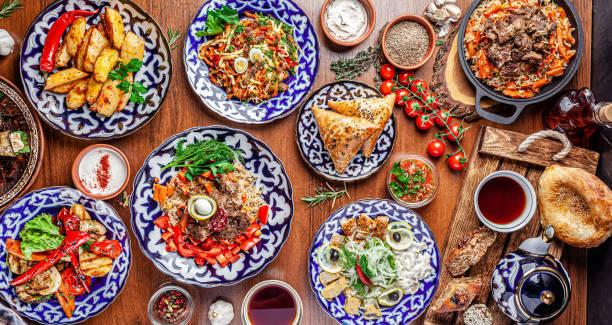Braised Crucian Carp: (128, 125, 289, 287), (17, 0, 167, 140), (0, 185, 131, 323), (306, 198, 440, 325), (182, 0, 316, 125), (457, 0, 585, 123), (293, 79, 389, 182)
